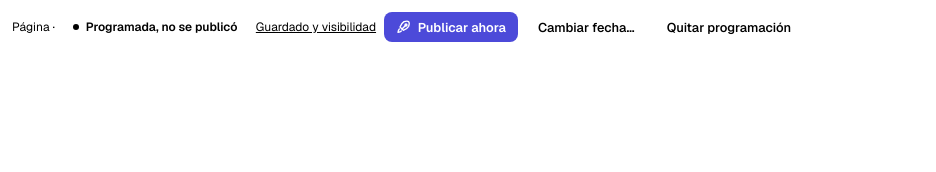
Test: VisualPublishControl.svelte — «Programar…» › quitar programación con conflicto adopta la versión del servidor y no la borra
Click the button "Quitar programación" at [729, 27], box [655, 12, 803, 42]
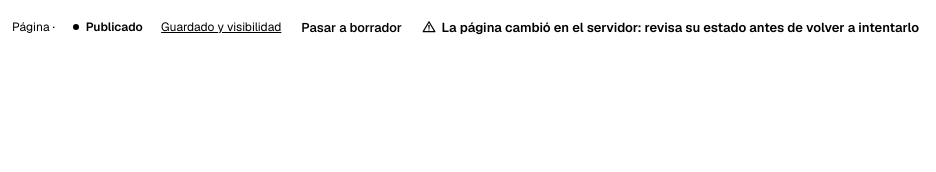
Expected: the text "Publicado" is shown, [63, 15, 153, 39]
Expected: the button "Quitar programación" is gone
Expected: the message "La página cambió en el servidor: revisa su estado antes de volver a intentarlo" is shown, [422, 18, 919, 36]
